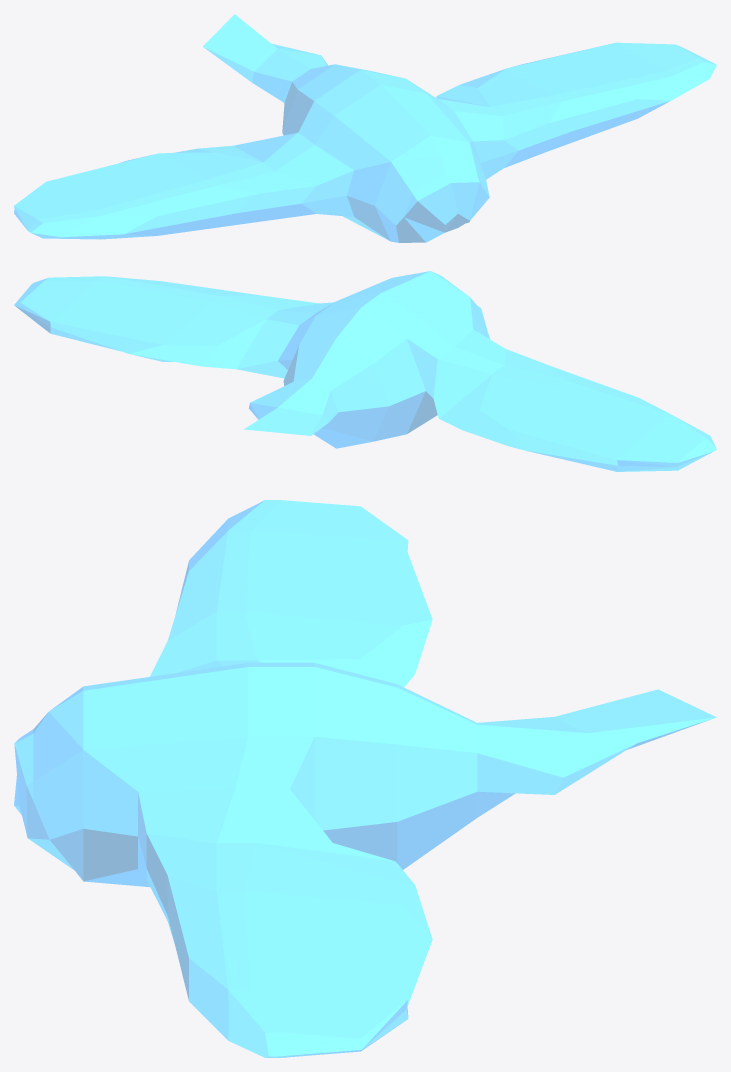
The model's file is ice_bird_body.glb.
3 renders of one model, top to bottom at view 1: azimuth 30°, elevation 25°; view 2: azimuth 150°, elevation 25°; view 3: azimuth 270°, elevation 25°, orthographic. The views are drawn at different scales.
Visible parts, largest first — view 1: IceBird Body; view 2: IceBird Body; view 3: IceBird Body.
Part boxes in pixels (box(x1,y1,x2,y2)): IceBird Body: box(14, 14, 716, 242); IceBird Body: box(14, 271, 716, 471); IceBird Body: box(14, 500, 716, 1057).
Size of the model in its own units: 10.56 by 2 by 5.67.
